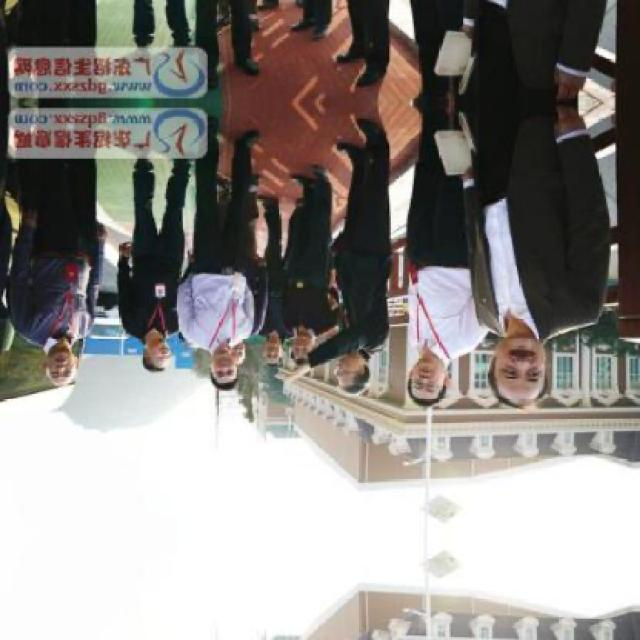sin casco: (436, 320, 555, 416), (0, 310, 99, 399), (166, 322, 264, 382), (120, 330, 199, 391), (365, 353, 443, 413), (294, 346, 368, 406)
